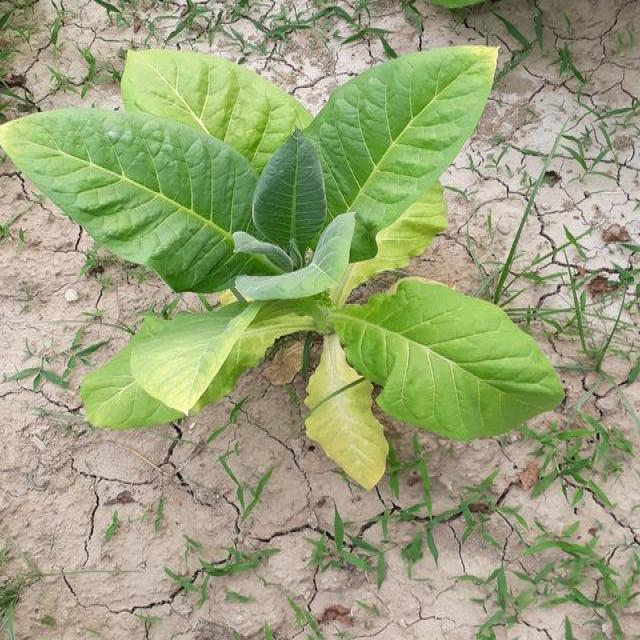crop: (39, 48, 557, 468)
